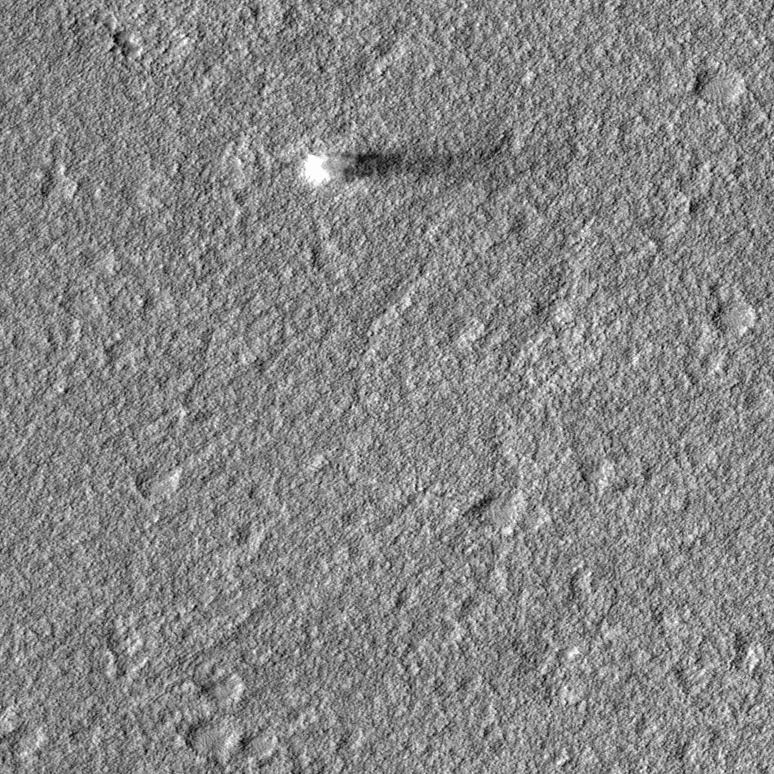dust_devil: (297, 140, 509, 190)
